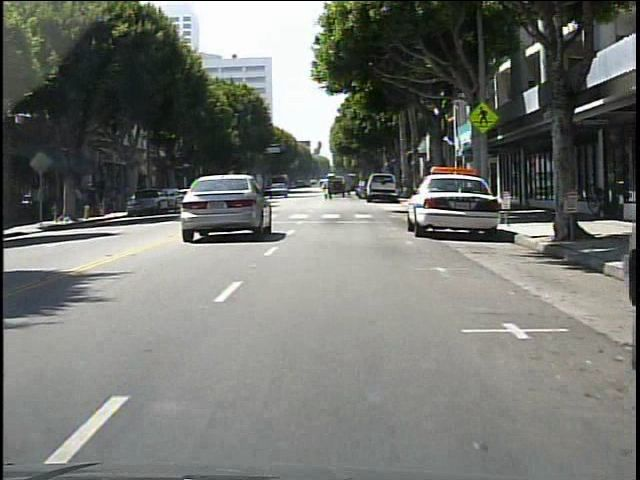person: (32, 181, 44, 220), (88, 182, 100, 218), (77, 186, 88, 218), (328, 177, 329, 200)
